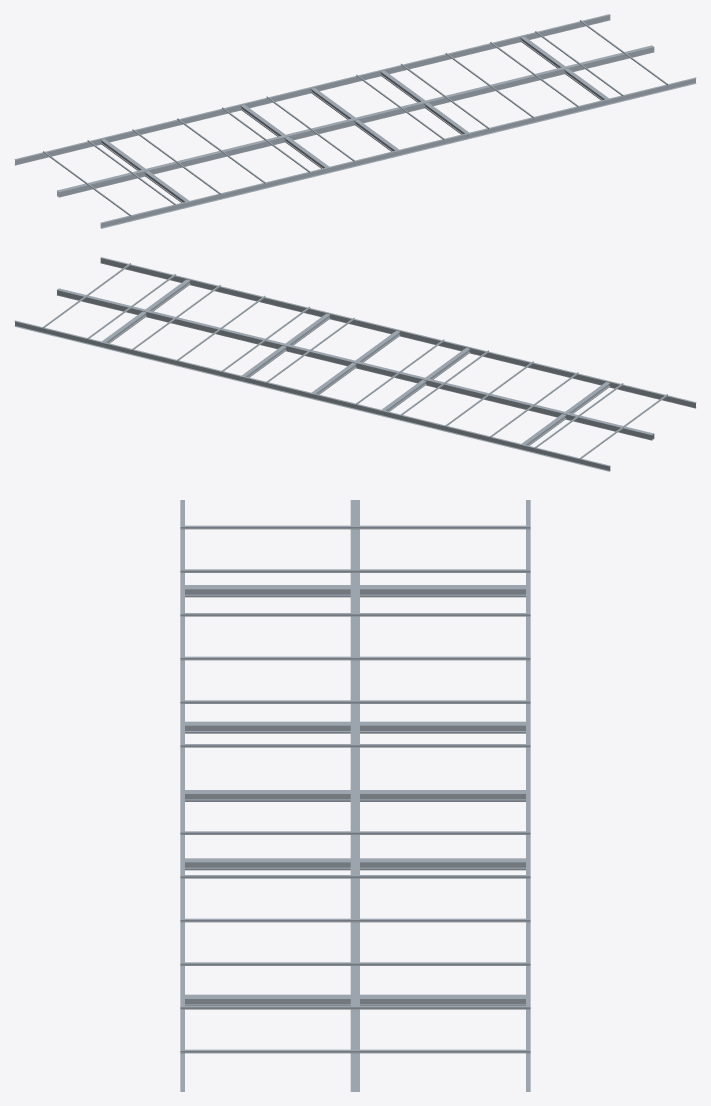
Rendered from SM06_Building_Structure_Roof_Flat_01_Default.fbx.
The picture shows the model from 3 angles, top to bottom: view 1: azimuth 30°, elevation 25°; view 2: azimuth 150°, elevation 25°; view 3: azimuth 270°, elevation 25°; orthographic projection. The views are drawn at different scales.
Parts seen in each view (by area): view 1: SM06_Building_Structure_Roof_Flat_01_Default; view 2: SM06_Building_Structure_Roof_Flat_01_Default; view 3: SM06_Building_Structure_Roof_Flat_01_Default.
Part boxes in pixels (box(x1,y1,x2,y2)): SM06_Building_Structure_Roof_Flat_01_Default: box(14, 14, 696, 228); SM06_Building_Structure_Roof_Flat_01_Default: box(14, 257, 696, 471); SM06_Building_Structure_Roof_Flat_01_Default: box(180, 500, 530, 1091).
Bounding box in the file's own units: 58.84 × 0.6139 × 15.
